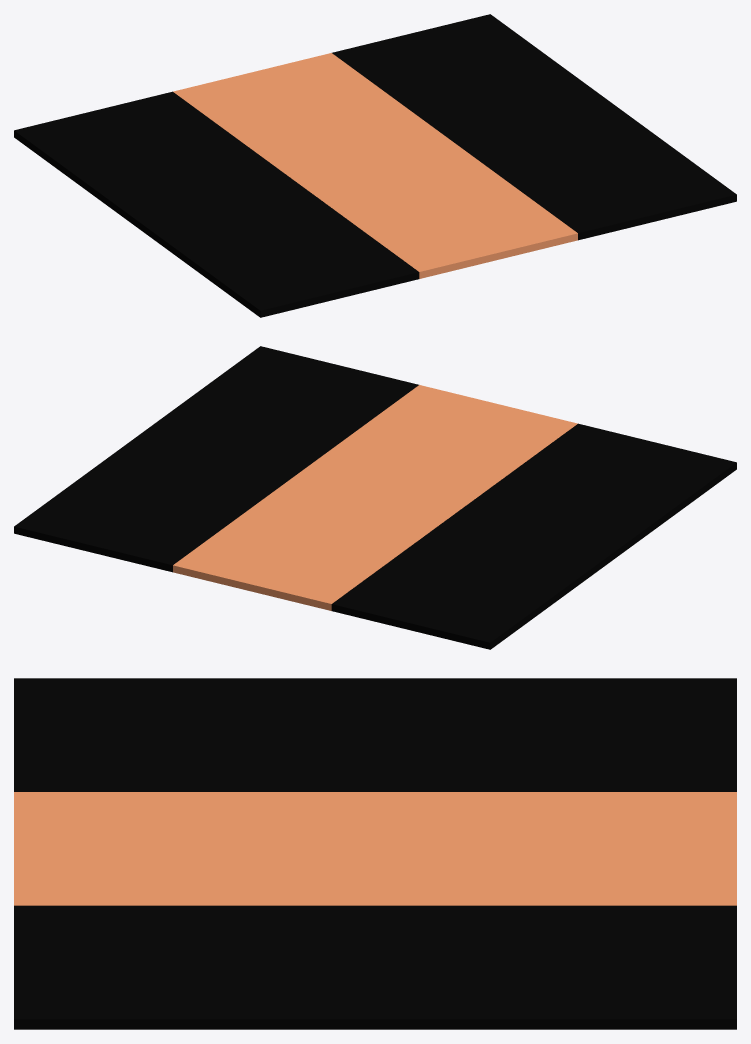
The model's file is LiftingMat.fbx.
3 renders of one model, top to bottom at view 1: azimuth 30°, elevation 25°; view 2: azimuth 150°, elevation 25°; view 3: azimuth 270°, elevation 25°, orthographic. The views are drawn at different scales.
Visible parts, largest first — view 1: Cube.002, Cube; view 2: Cube.002, Cube; view 3: Cube.002, Cube.
Part boxes in pixels (x1=…): Cube.002: x1=14, y1=14, x2=736, y2=317; Cube: x1=173, y1=53, x2=577, y2=278; Cube.002: x1=14, y1=346, x2=736, y2=649; Cube: x1=173, y1=385, x2=577, y2=610; Cube.002: x1=14, y1=678, x2=736, y2=1029; Cube: x1=14, y1=792, x2=736, y2=905.
Size of the model in its own units: 6816 by 96.39 by 6109.
